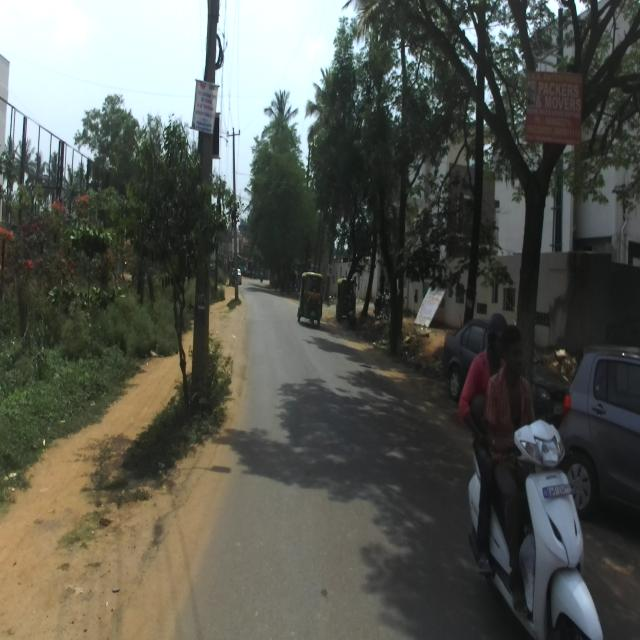electric pole ahead at: (187, 1, 231, 398)
motorcycle ahead at: (460, 415, 609, 640)
